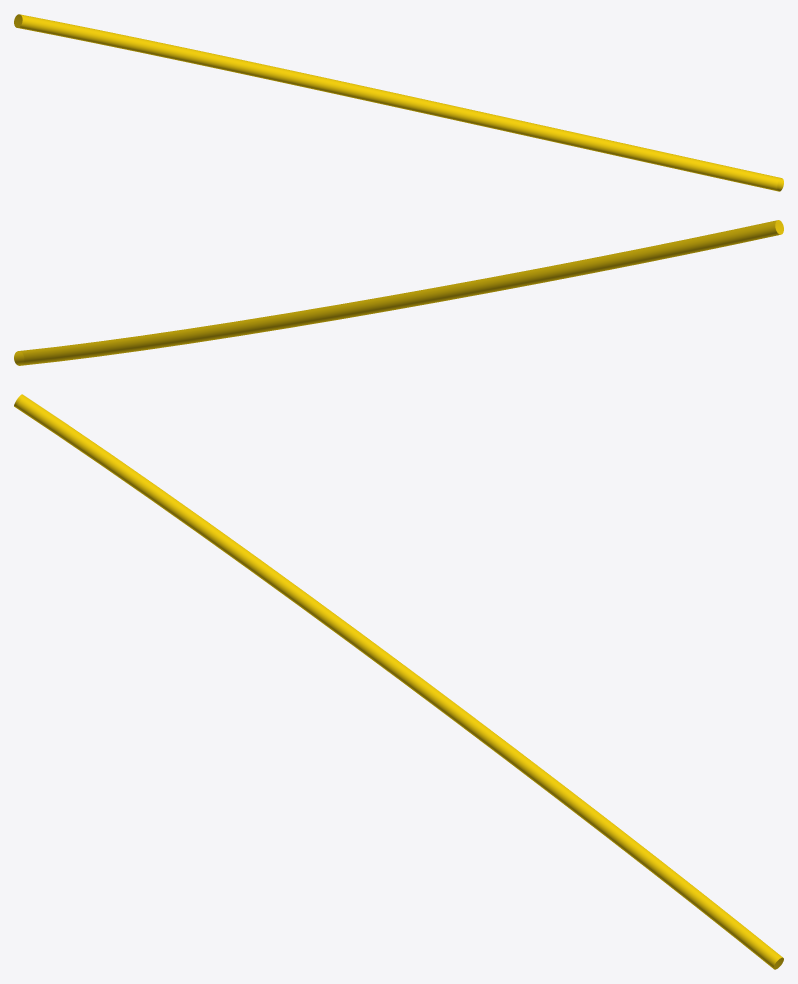
The model's file is Event_421278790_track_49.fbx.
3 renders of one model, top to bottom at view 1: azimuth 30°, elevation 25°; view 2: azimuth 150°, elevation 25°; view 3: azimuth 330°, elevation 25°, orthographic. The views are drawn at different scales.
Parts seen in each view (by area): view 1: Model; view 2: Model; view 3: Model.
Part boxes in pixels (left/top/right/bottom): Model: left=14, top=14, right=783, bottom=191; Model: left=14, top=220, right=783, bottom=365; Model: left=14, top=394, right=783, bottom=969.
Size of the model in its own units: 2.46 by 1.06 by 0.2124.
